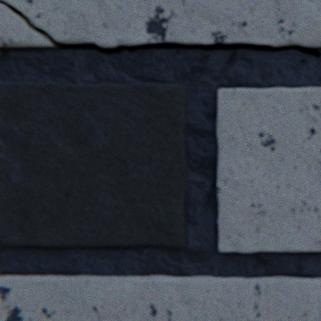brick: (0, 82, 187, 246), (217, 87, 320, 251), (0, 274, 320, 320)
broken_brick: (4, 0, 320, 47), (0, 4, 54, 46)
crack: (0, 0, 320, 58)
